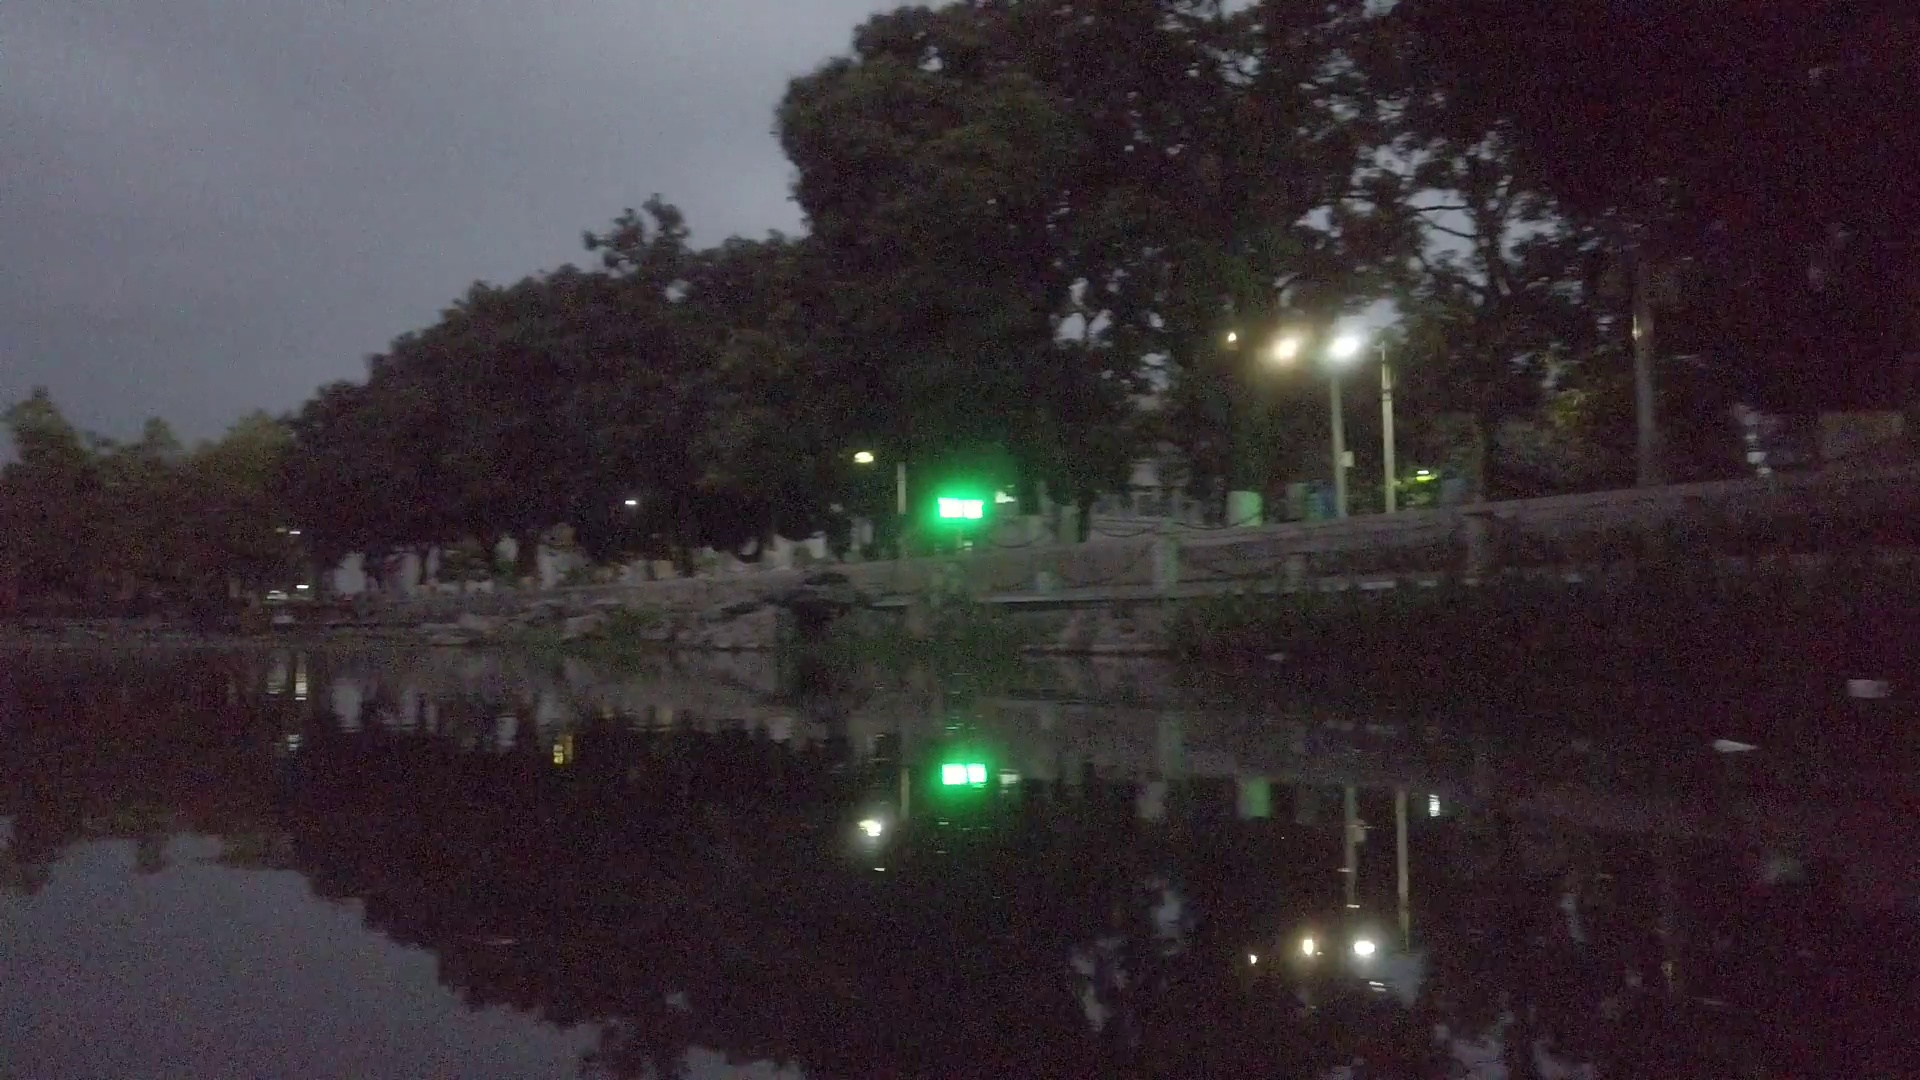carton: (1847, 678, 1892, 700)
paper: (1708, 735, 1759, 760)
